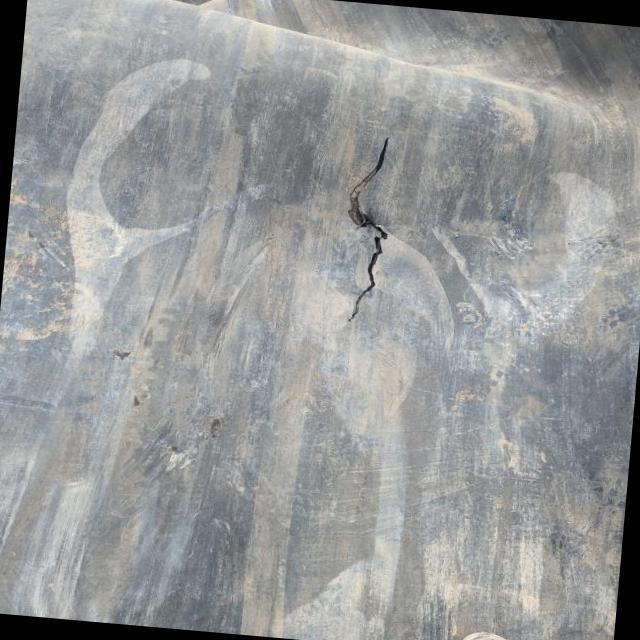Tear: (340, 133, 397, 324)
